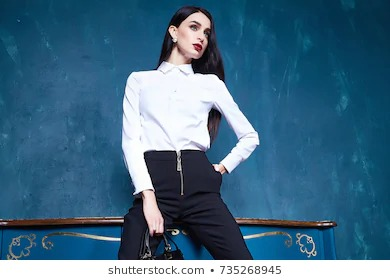S_blouse: (113, 61, 263, 195)
